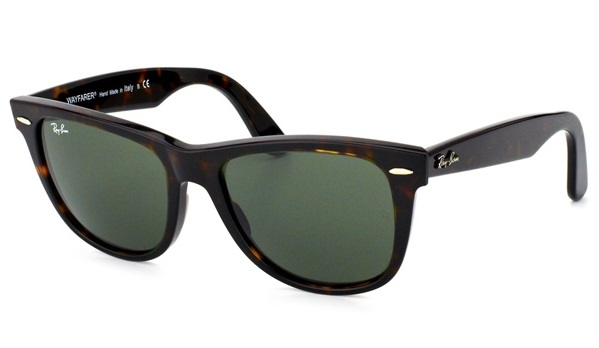Rayban: (432, 146, 468, 175), (45, 117, 74, 139)
